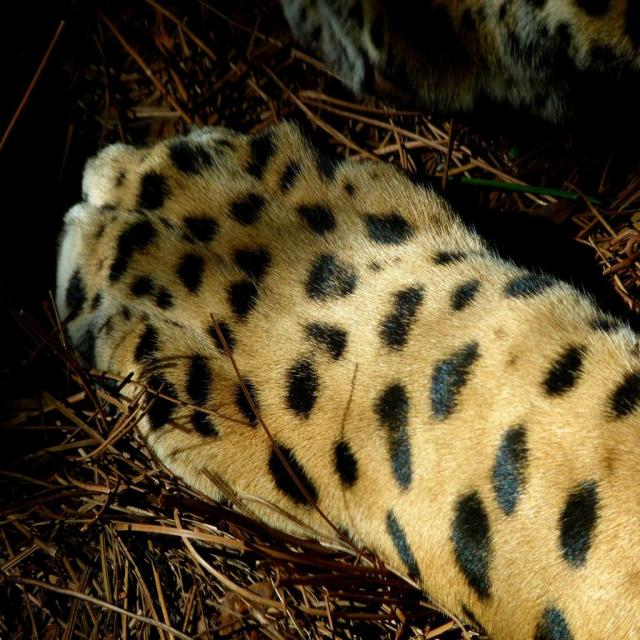Cheetah: (53, 114, 640, 640)
